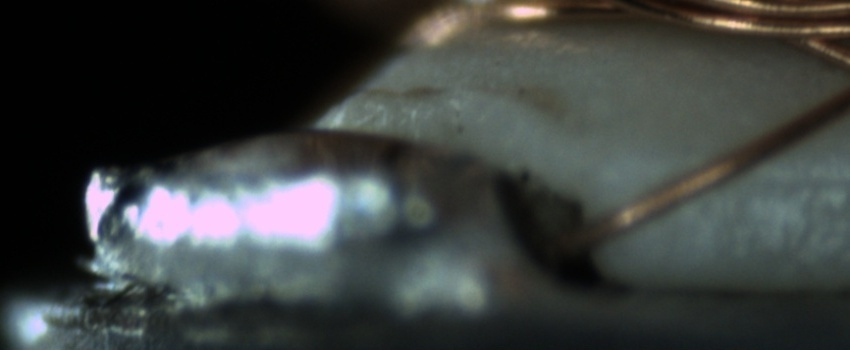DL: (709, 148, 850, 214)
